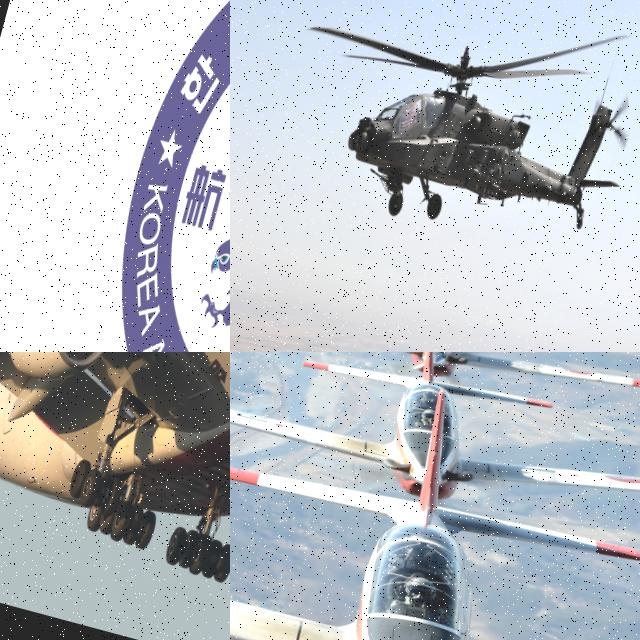A380: (0, 352, 230, 640)
Apache: (268, 0, 640, 265)
KAU_Marker: (66, 0, 230, 352)
KT-1: (230, 352, 640, 640), (230, 352, 640, 576), (230, 352, 640, 438)
